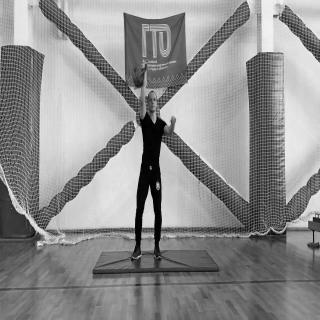kettlebell: (133, 64, 151, 90)
